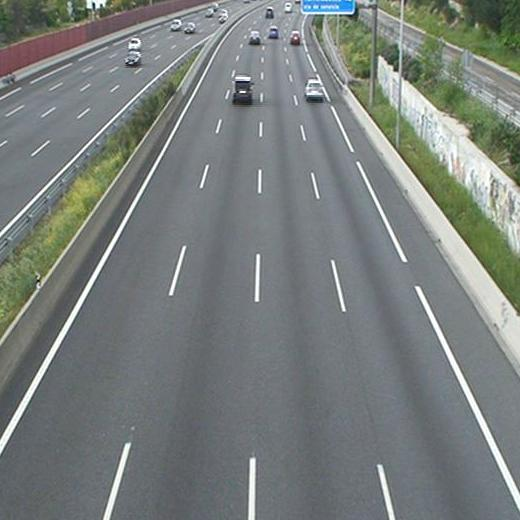car: (231, 75, 253, 104), (303, 78, 325, 102), (249, 31, 262, 44), (290, 30, 300, 45), (267, 27, 279, 38)
